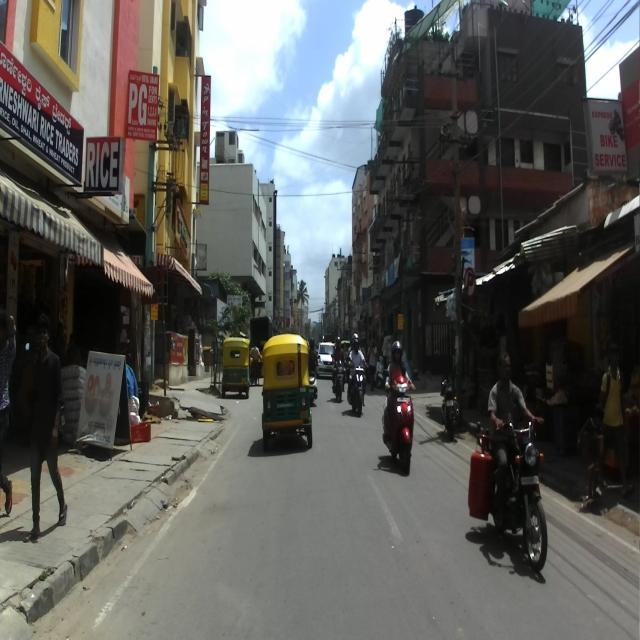autorickshaw: (262, 334, 312, 451), (221, 336, 251, 397)
motorcycle: (477, 419, 547, 572), (345, 352, 367, 420)
scooter: (382, 368, 418, 476)
